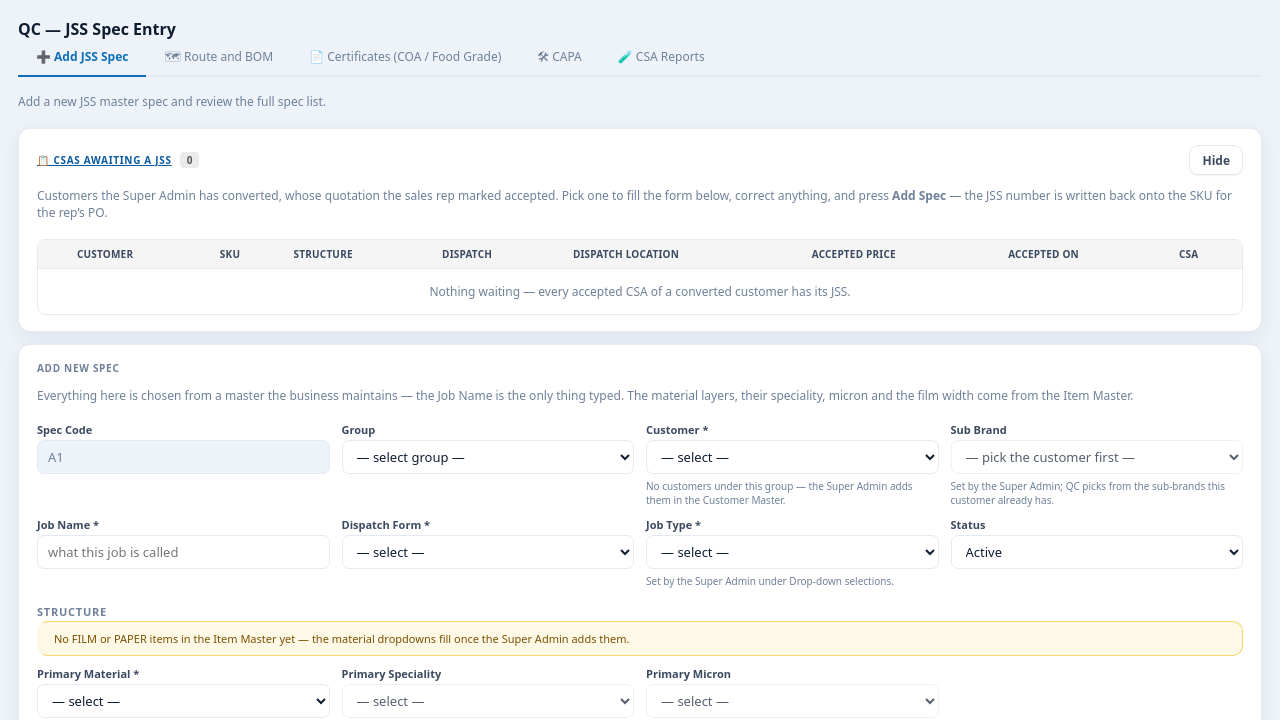
it: QC Certificates screen › shows the Food Grade declaration instead of attributes
Step 1. Click the text "📄 Certificates (COA / Food Grade)" → (405, 56), box [309, 48, 501, 65]
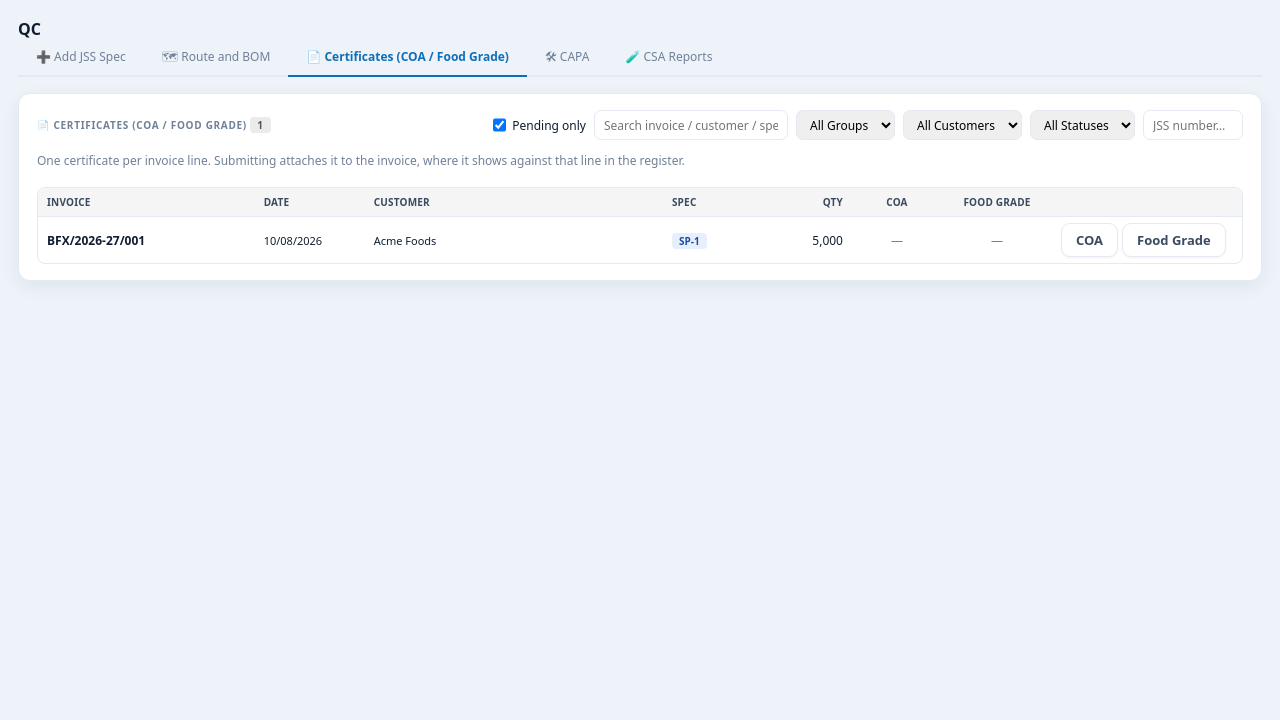
Step 2. Click the button with aria-label "Food Grade for BFX/2026-27/001 SP-1" → (1174, 240), box [1122, 223, 1226, 257]
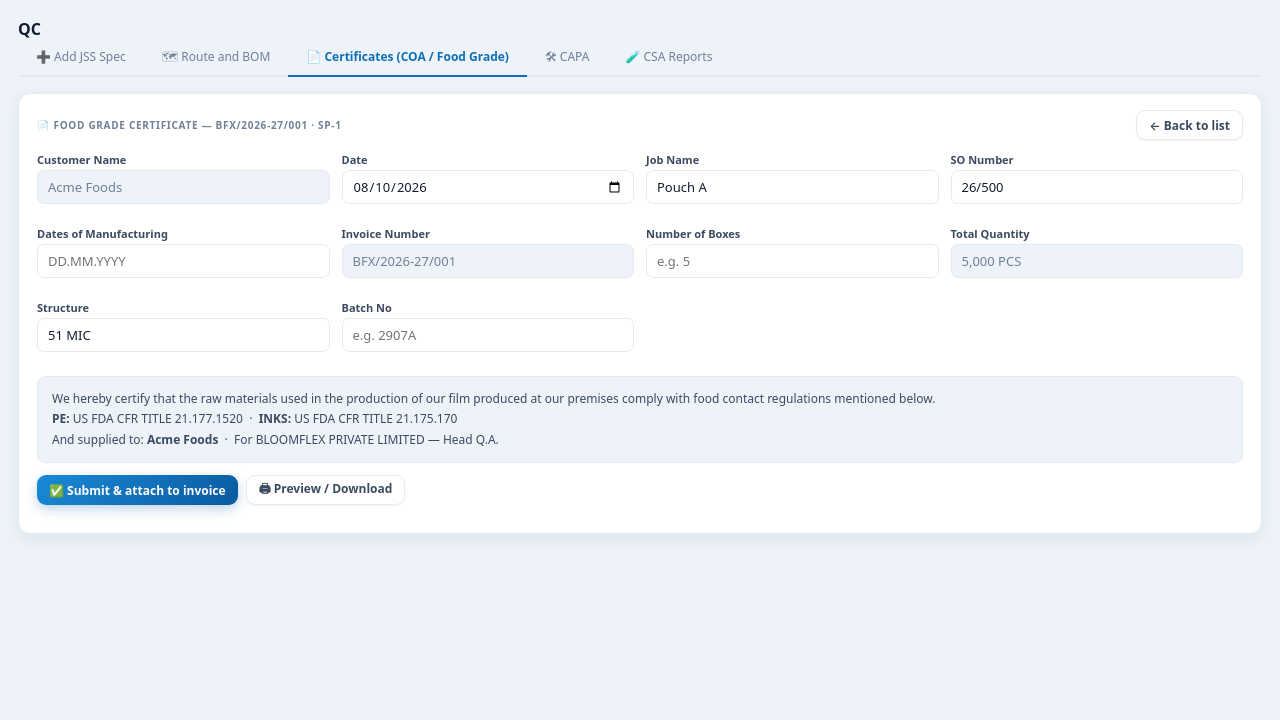
Expected: the text "US FDA CFR TITLE 21.177.1520" is shown, [73, 410, 243, 427]
Expected: the text "Number of Boxes" is shown, [646, 226, 740, 241]
